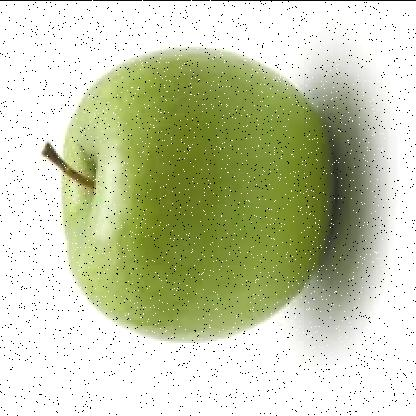apple: (60, 52, 332, 336)
